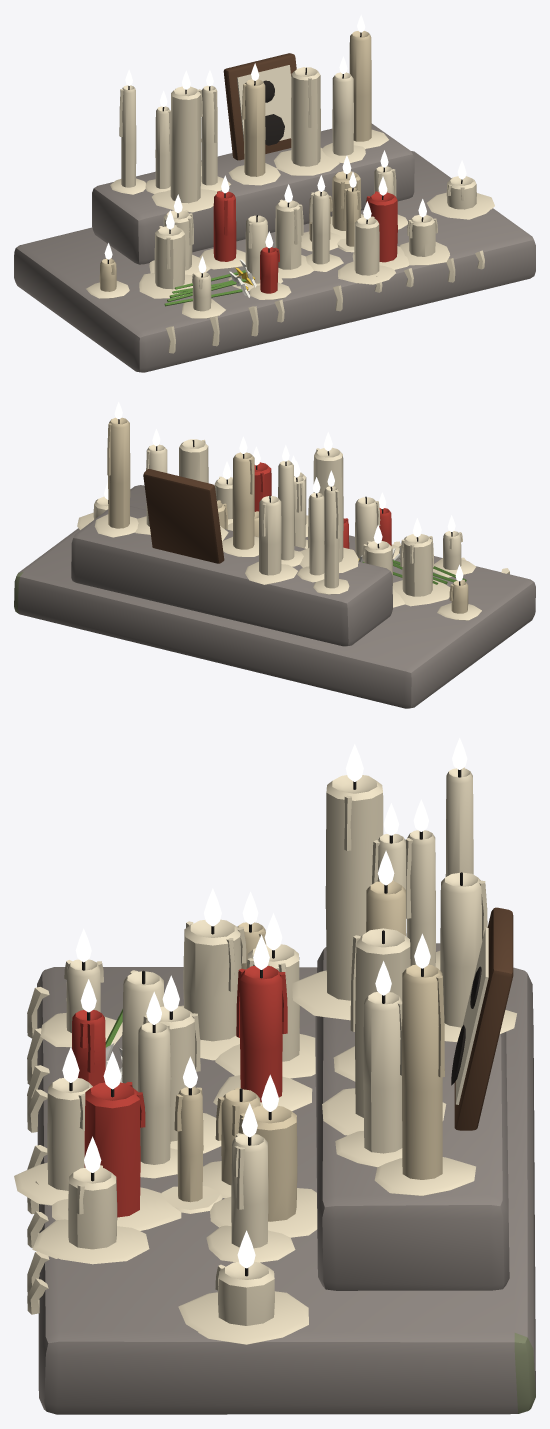
File: deco_memorial_candles.fbx
The picture shows the model from 3 angles, top to bottom: view 1: azimuth 30°, elevation 25°; view 2: azimuth 150°, elevation 25°; view 3: azimuth 270°, elevation 25°; orthographic projection. The views are drawn at different scales.
Parts seen in each view (by area): view 1: MemorialCandles_Slab, MemorialCandles_Candles, MemorialCandles_Flames; view 2: MemorialCandles_Slab, MemorialCandles_Candles, MemorialCandles_Flames; view 3: MemorialCandles_Candles, MemorialCandles_Slab, MemorialCandles_Flames.
Part boxes in pixels (x1,y1,x2,y2): MemorialCandles_Slab: (14,53,535,372); MemorialCandles_Candles: (86,31,494,318); MemorialCandles_Flames: (104,14,466,273); MemorialCandles_Slab: (14,469,535,708); MemorialCandles_Candles: (77,417,481,620); MemorialCandles_Flames: (104,402,463,581); MemorialCandles_Candles: (14,767,516,1344); MemorialCandles_Slab: (27,907,535,1414); MemorialCandles_Flames: (62,738,467,1268).
Bounding box in the file's own units: 203 × 103 × 116.
